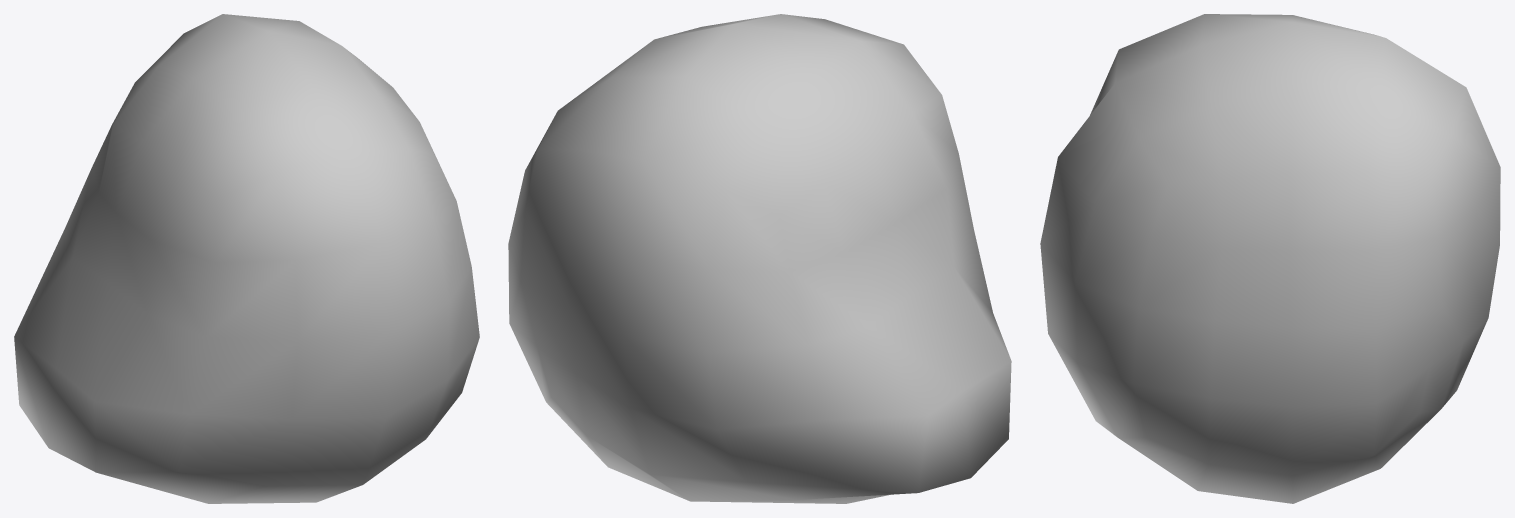
Rendered from Rock_03.fbx.
The picture shows the model from 3 angles, left to right: view 1: azimuth 30°, elevation 25°; view 2: azimuth 150°, elevation 25°; view 3: azimuth 270°, elevation 25°; orthographic projection. The views are drawn at different scales.
Visible parts, largest first — view 1: Rock_03; view 2: Rock_03; view 3: Rock_03.
Part boxes in pixels (x1,y1,x2,y2): Rock_03: [14, 14, 479, 503]; Rock_03: [508, 14, 1011, 503]; Rock_03: [1040, 14, 1500, 503].
Bounding box in the file's own units: 39.09 × 41.58 × 38.44.
